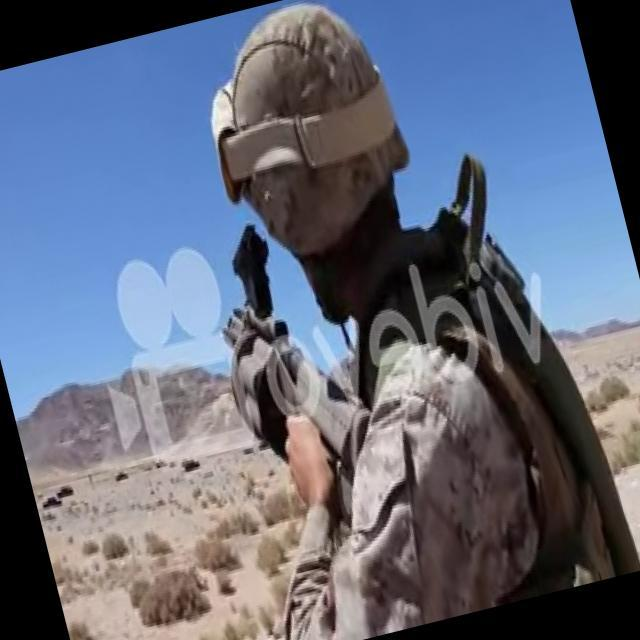rocket: (199, 217, 387, 511)
